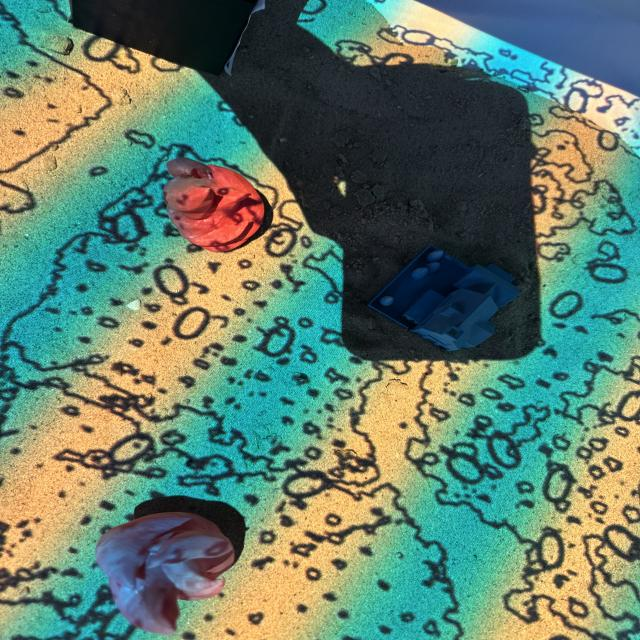fire: (96, 510, 235, 632), (162, 157, 266, 253)
house: (366, 244, 520, 352)
